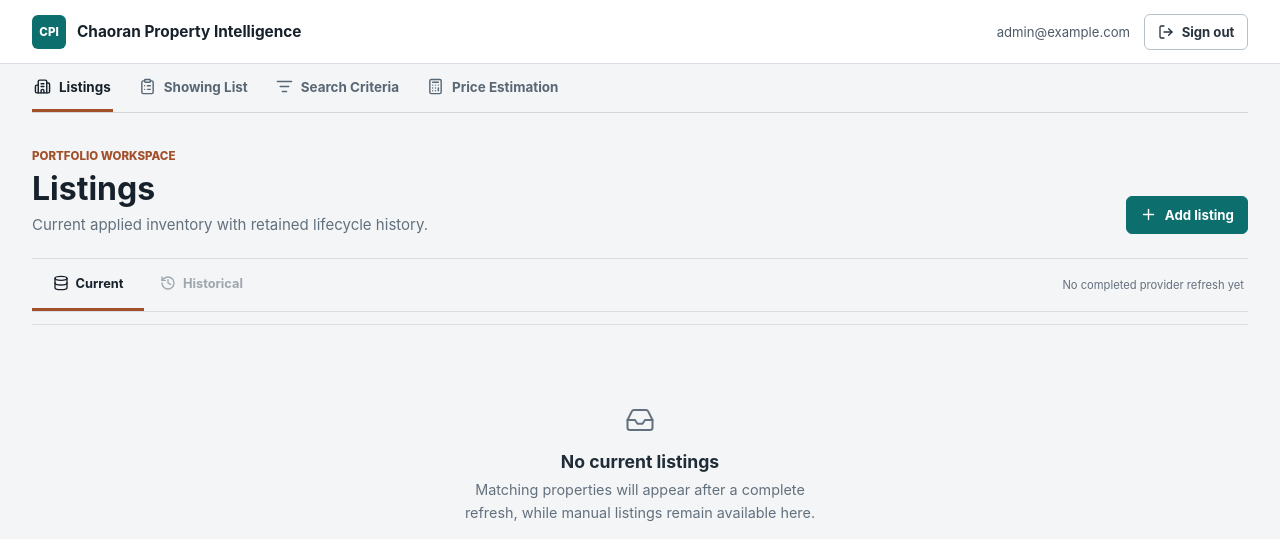
Test: App authentication boundary › switches to the protected Showing List workspace
Expected: the heading "No current listings" is shown, [561,451,719,472]
Click the button "Showing List" at (193,88), box [137,64,250,112]
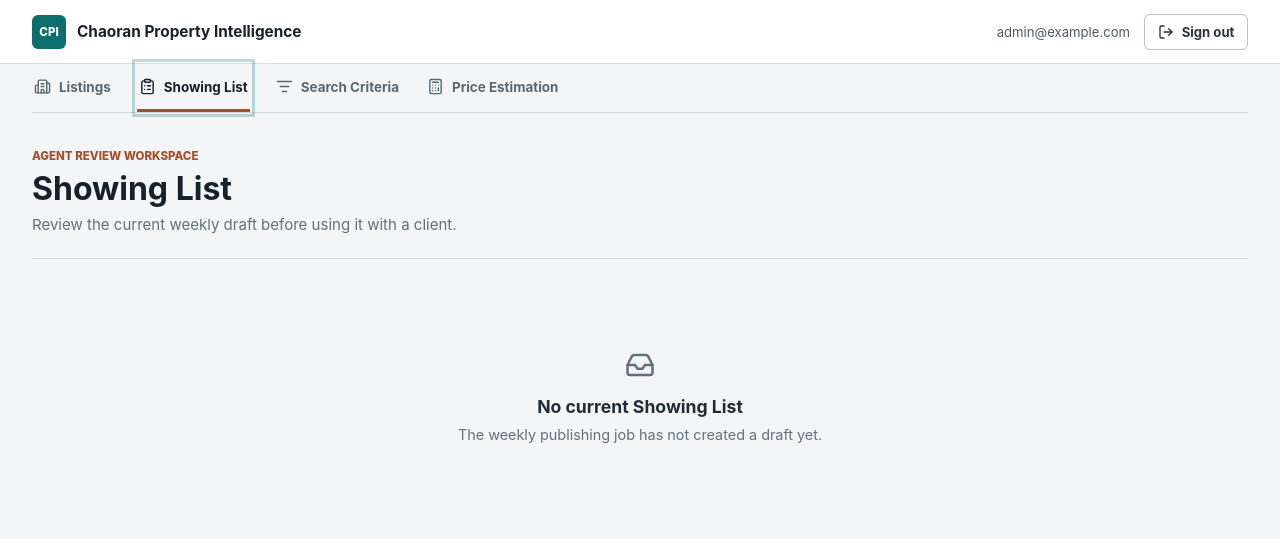
Expected: the heading "No current Showing List" is shown, [537,396,743,417]
